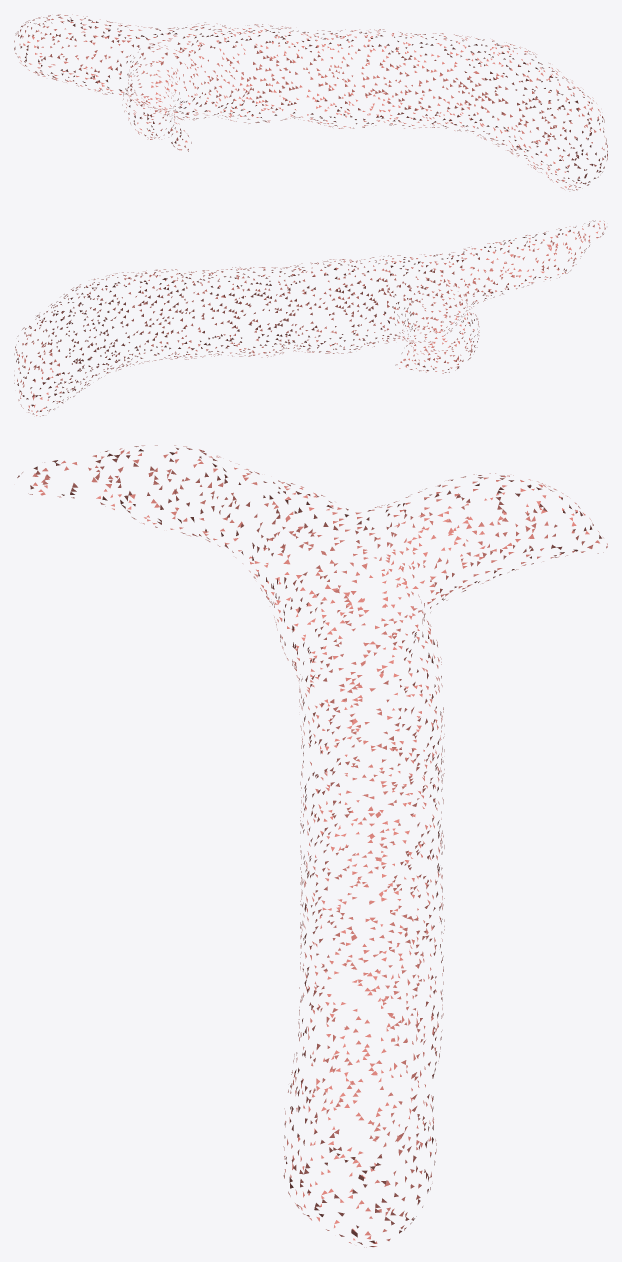
File: morph_001.glb
The picture shows the model from 3 angles, top to bottom: view 1: azimuth 30°, elevation 25°; view 2: azimuth 150°, elevation 25°; view 3: azimuth 270°, elevation 25°; orthographic projection. The views are drawn at different scales.
Size of the model in its own units: 119 by 57.56 by 73.15.
